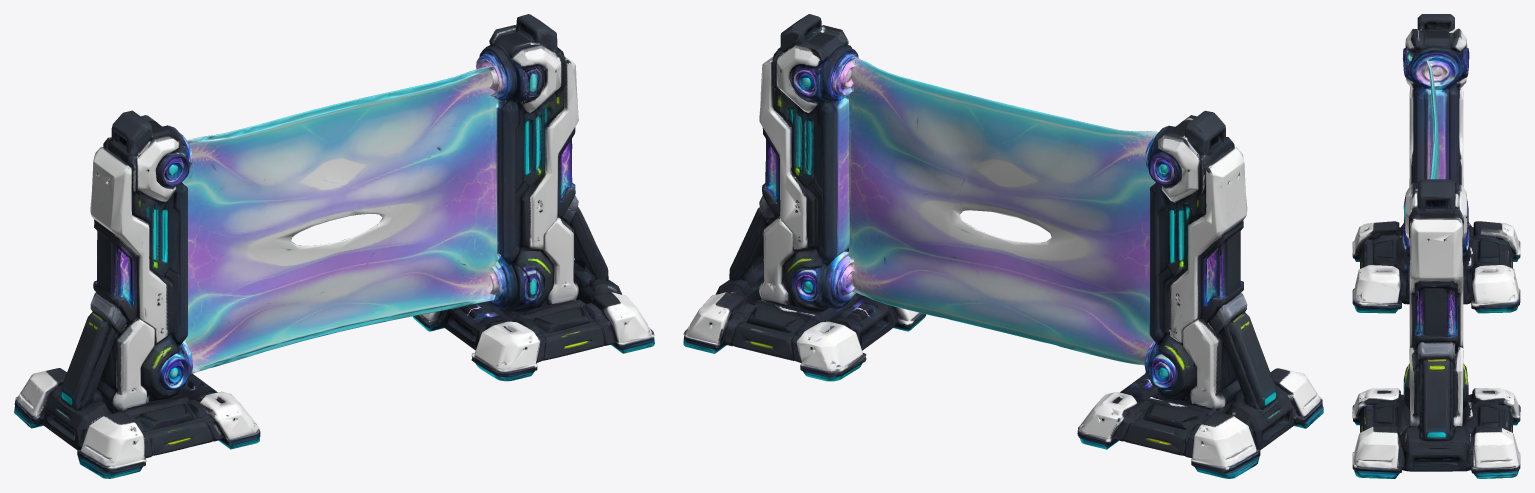
The model's file is model-20-energy-barrier.glb.
The picture shows the model from 3 angles, left to right: view 1: azimuth 30°, elevation 25°; view 2: azimuth 150°, elevation 25°; view 3: azimuth 270°, elevation 25°; orthographic projection. The views are drawn at different scales.
Visible parts, largest first — view 1: node_0; view 2: node_0; view 3: node_0.
Part boxes in pixels (x1,y1,x2,y2): node_0: (14, 14, 654, 478); node_0: (683, 14, 1323, 478); node_0: (1352, 14, 1520, 478).
Size of the model in its own units: 1.04 by 0.55 by 0.3165.
Materials: 1 (1 with a texture image).
